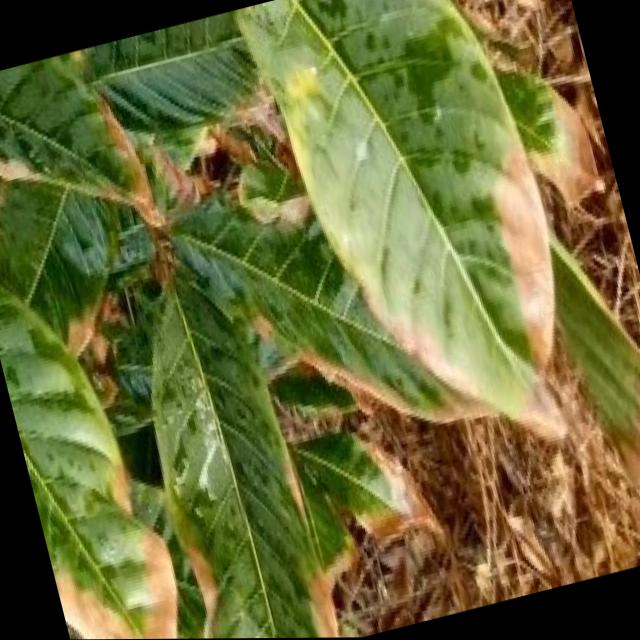Leaf Blight: (262, 45, 612, 494), (24, 426, 202, 640), (0, 75, 27, 229)
